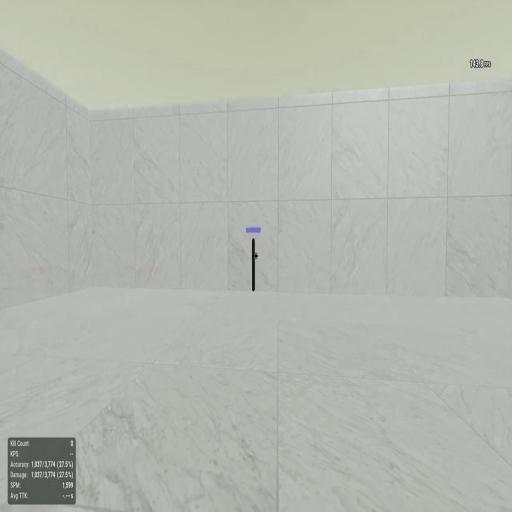Crosshair: (254, 252, 258, 260)
Target: (252, 238, 255, 292)
